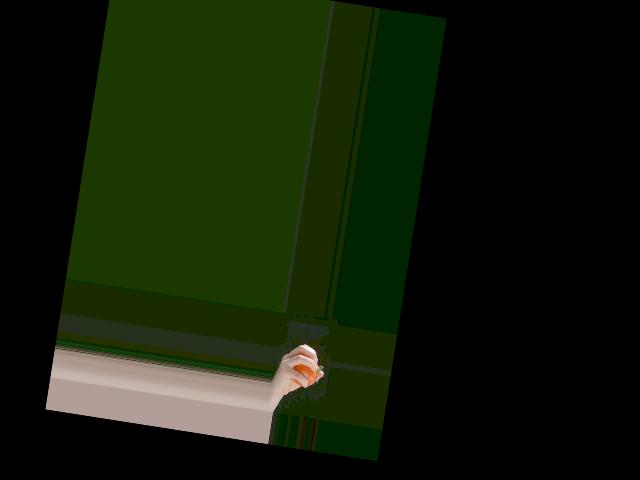tomato: (289, 359, 318, 388)
